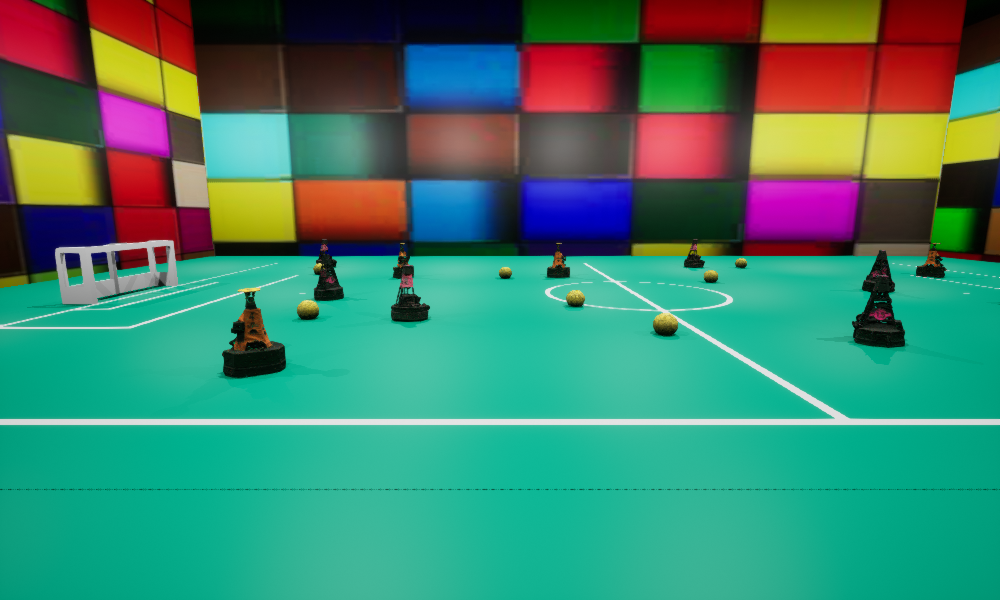b: (653, 313, 677, 335), (297, 300, 318, 319), (566, 290, 584, 305), (704, 270, 717, 282), (499, 267, 511, 278), (313, 263, 324, 274), (735, 258, 746, 267)
o: (222, 288, 285, 377), (916, 243, 946, 277), (547, 243, 569, 277), (393, 243, 413, 278)
p1: (852, 275, 904, 347), (862, 250, 894, 292), (314, 254, 343, 300)
p2: (391, 265, 429, 321), (684, 239, 704, 267), (316, 239, 336, 266)
